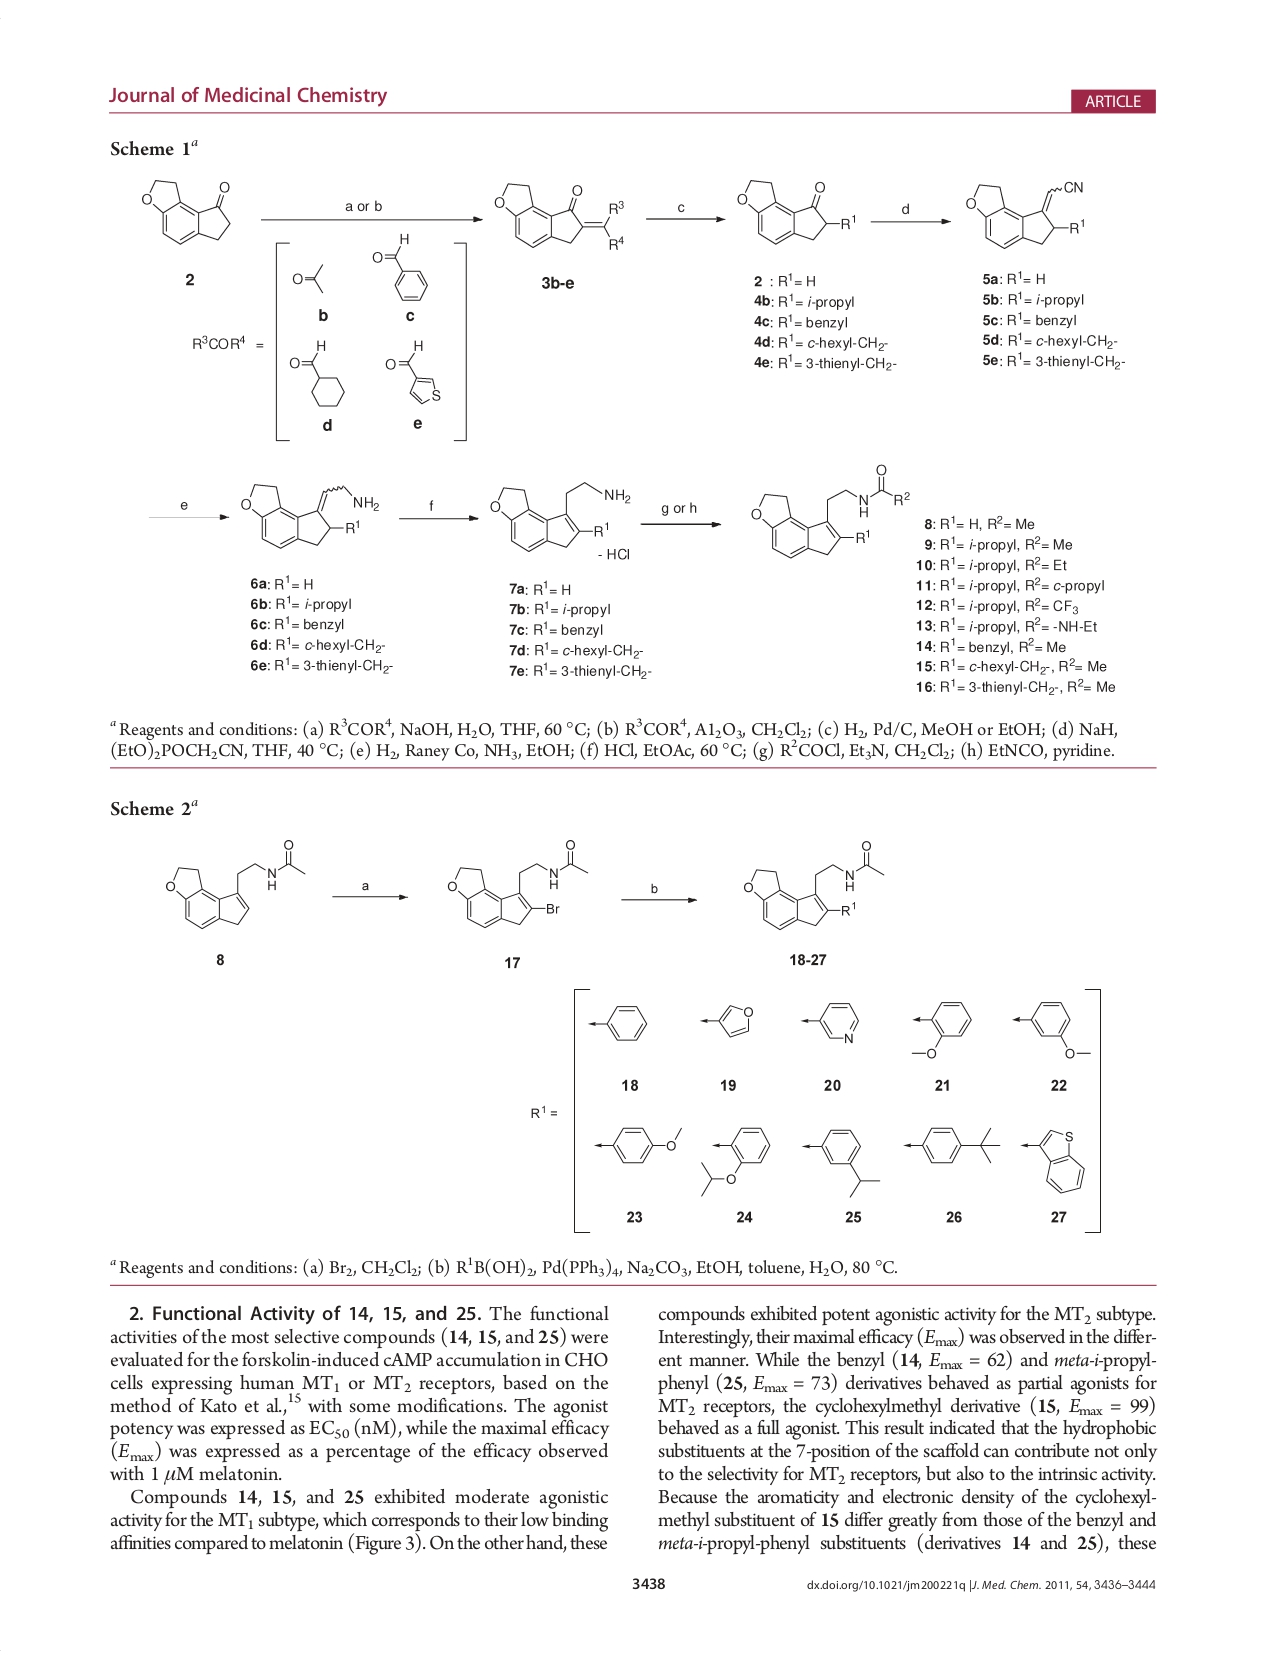exist_molecular: (747, 461, 912, 563), (442, 833, 594, 934), (164, 830, 309, 934), (739, 836, 884, 934), (491, 177, 629, 257), (238, 477, 382, 553), (487, 480, 633, 553), (961, 176, 1090, 253), (733, 173, 860, 250), (138, 173, 235, 245), (801, 1122, 880, 1200), (694, 1122, 774, 1200), (1009, 992, 1090, 1063), (898, 987, 973, 1061), (898, 1118, 1003, 1170), (1019, 1121, 1088, 1197), (285, 334, 344, 412), (368, 227, 430, 303), (590, 1118, 688, 1165), (380, 336, 440, 406), (797, 991, 860, 1047), (582, 1001, 649, 1043), (696, 997, 753, 1043), (289, 258, 330, 297)
